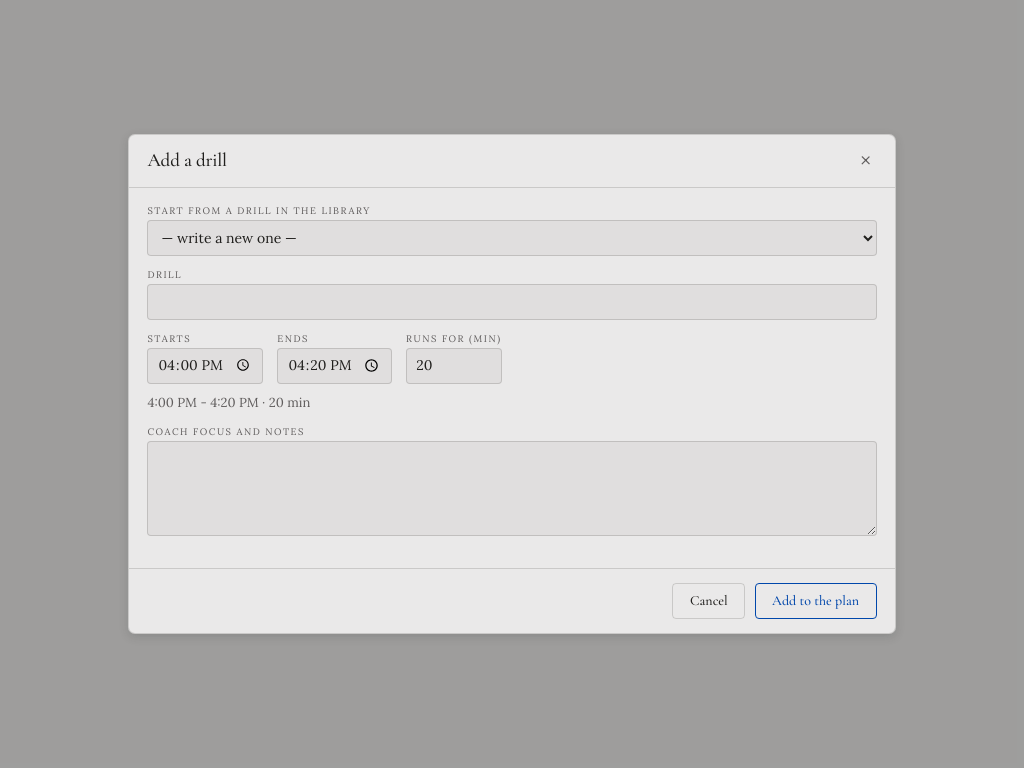
Scenario: the three-way arithmetic › fills the end when a duration is typed
Replace the text in the number field labelled "Runs for (min)" with "45" at (454, 366), box [406,348,502,384]
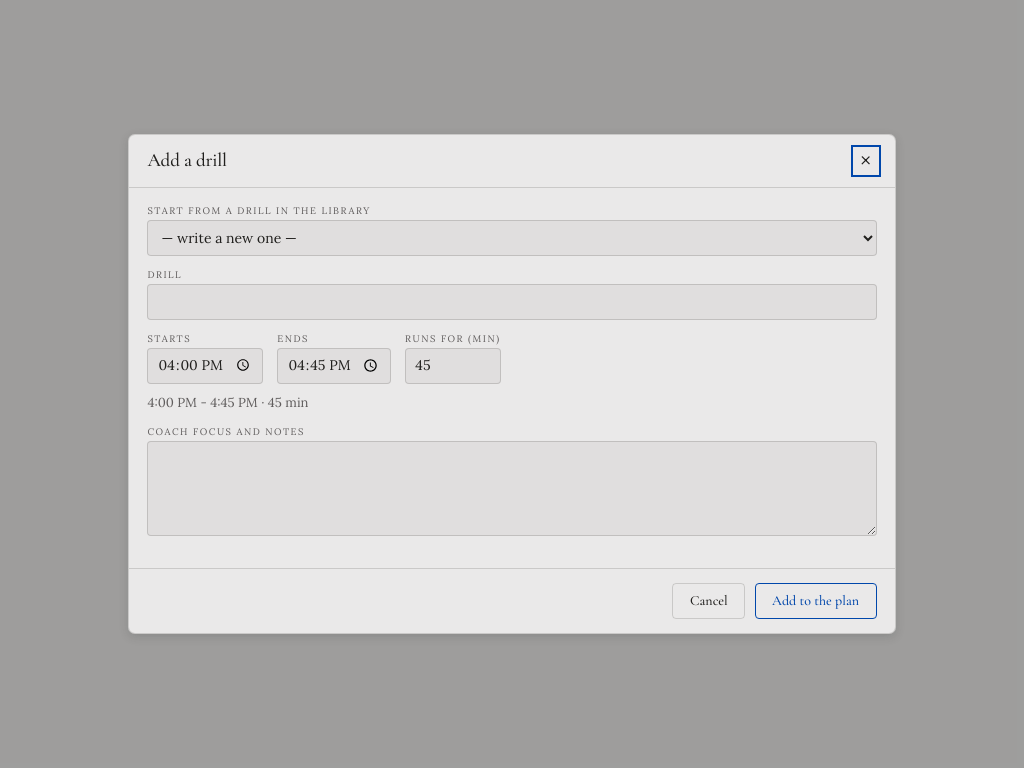
Check: the time field labelled "Ends" holds "16:45", box [277,348,391,384]
